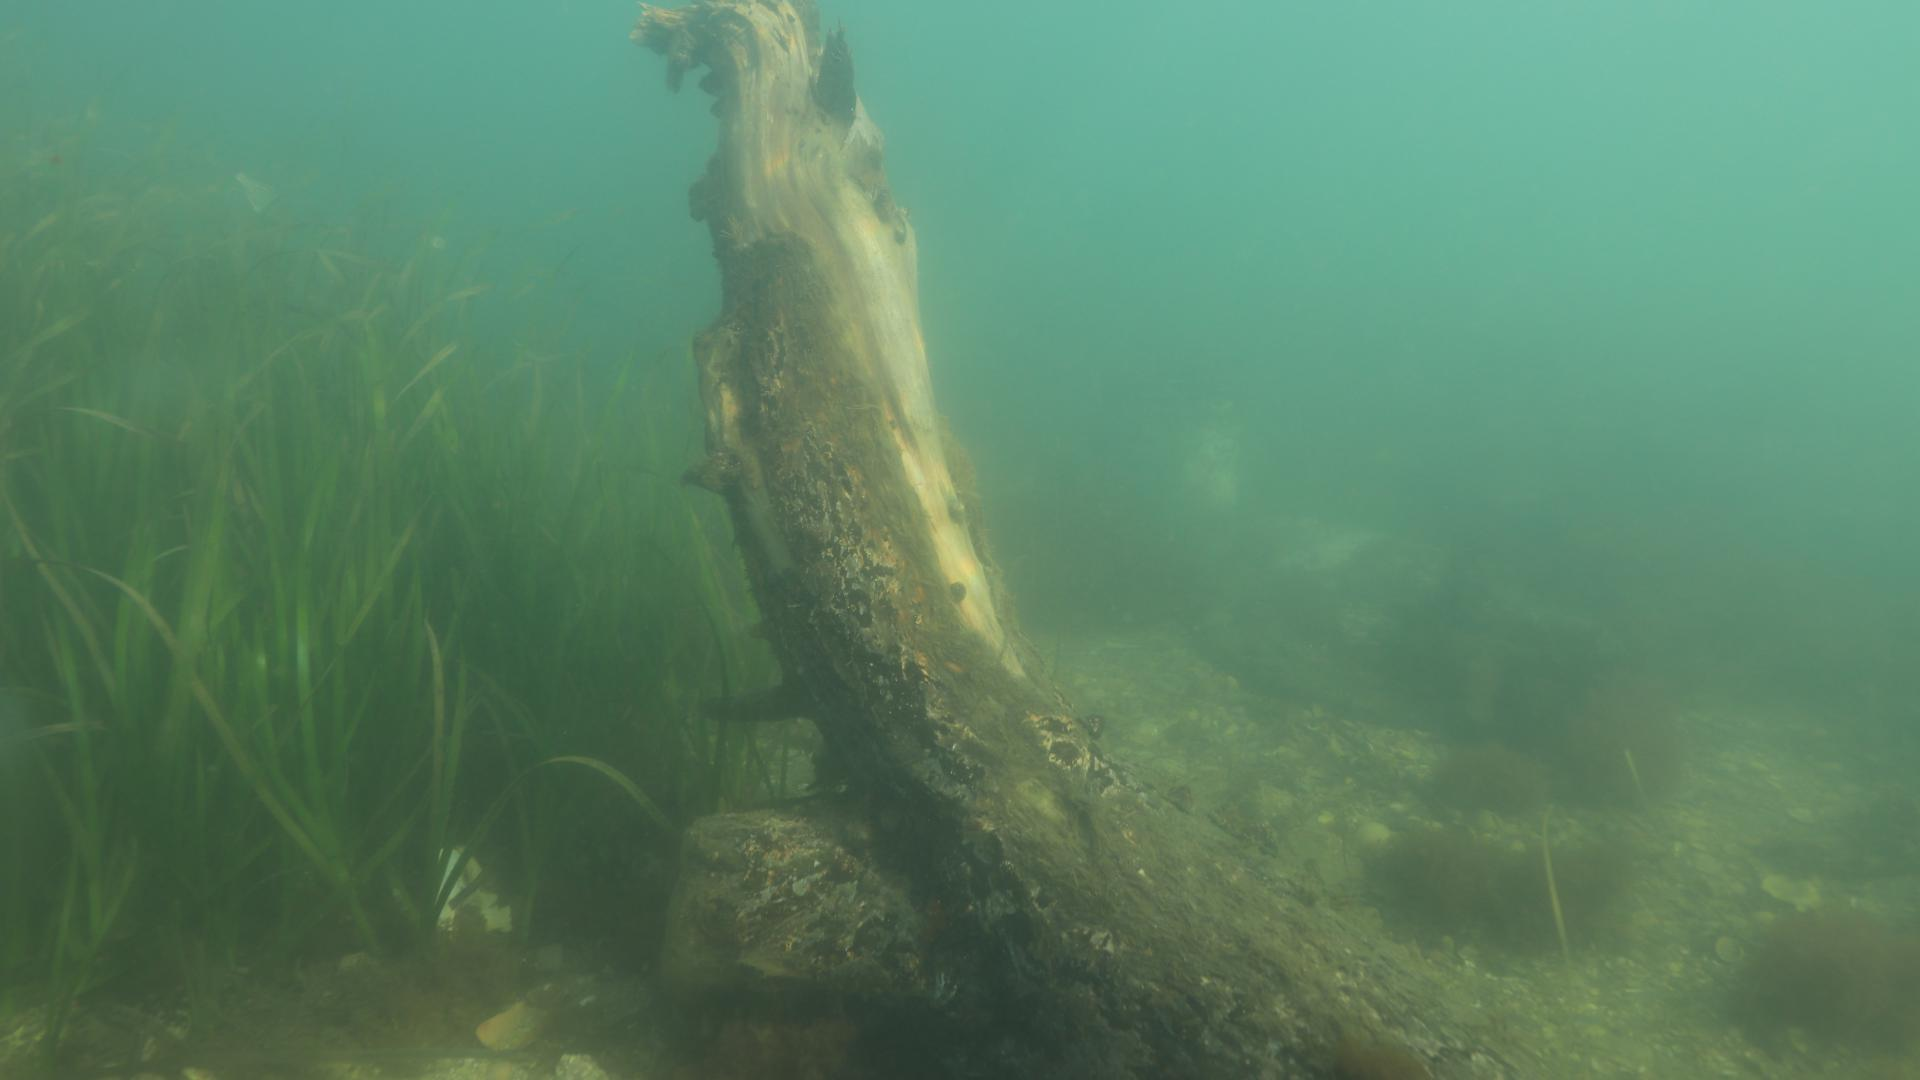wood: (626, 0, 1494, 1080)
